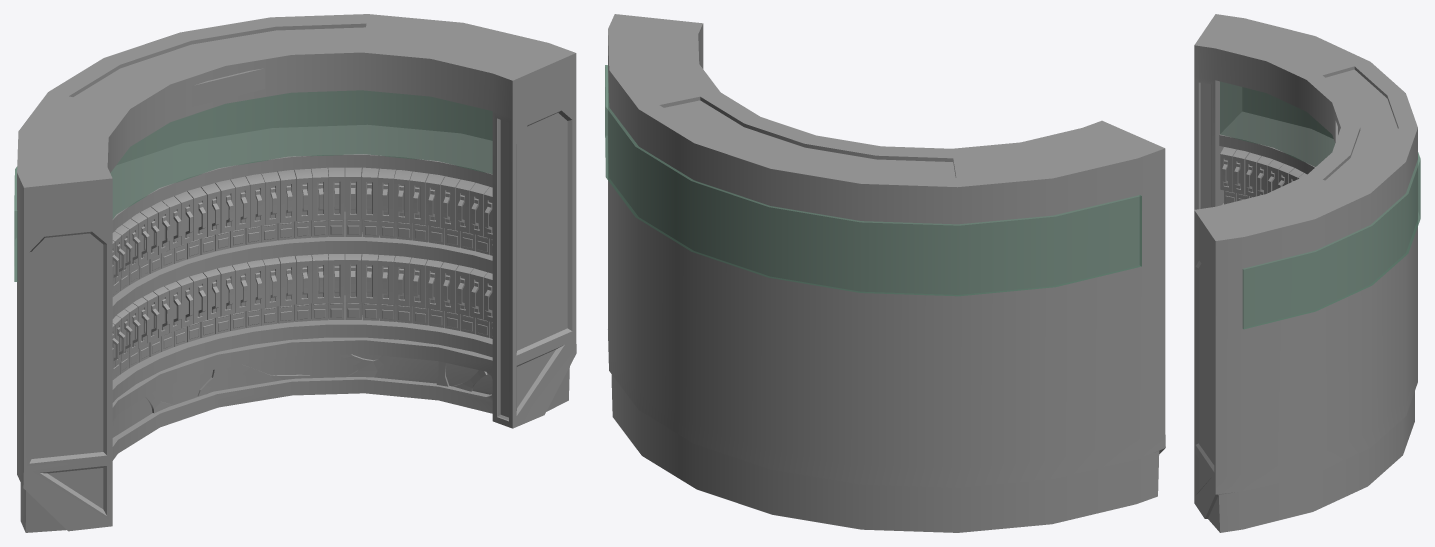
The model's file is Assets_02 1.fbx.
The picture shows the model from 3 angles, left to right: view 1: azimuth 30°, elevation 25°; view 2: azimuth 150°, elevation 25°; view 3: azimuth 270°, elevation 25°; orthographic projection. The views are drawn at different scales.
Parts seen in each view (by area): view 1: polySurface1, pCube15 (×44), sscreen, pCube9, pCube13, pCube19, pCube18, polySurface2, pCube17; view 2: polySurface1, sscreen; view 3: polySurface1, sscreen, pCube13, pCube15 (×4).
Boxes of the visible parts, left/top/right/bottom form: polySurface1: left=17, top=14, right=576, bottom=532; pCube15 (×44): left=149, top=167, right=489, bottom=356; sscreen: left=14, top=90, right=492, bottom=281; pCube9: left=112, top=337, right=492, bottom=460; pCube13: left=110, top=125, right=492, bottom=232; pCube19: left=112, top=295, right=492, bottom=402; pCube18: left=112, top=212, right=492, bottom=318; polySurface2: left=112, top=354, right=487, bottom=426; pCube17: left=192, top=68, right=264, bottom=106; polySurface1: left=608, top=14, right=1165, bottom=532; sscreen: left=605, top=65, right=1141, bottom=296; polySurface1: left=1194, top=14, right=1417, bottom=532; sscreen: left=1220, top=81, right=1420, bottom=329; pCube13: left=1219, top=112, right=1334, bottom=174; pCube15 (×4): left=1220, top=147, right=1273, bottom=204.
Bounding box in the file's own units: 508 × 306 × 214.
